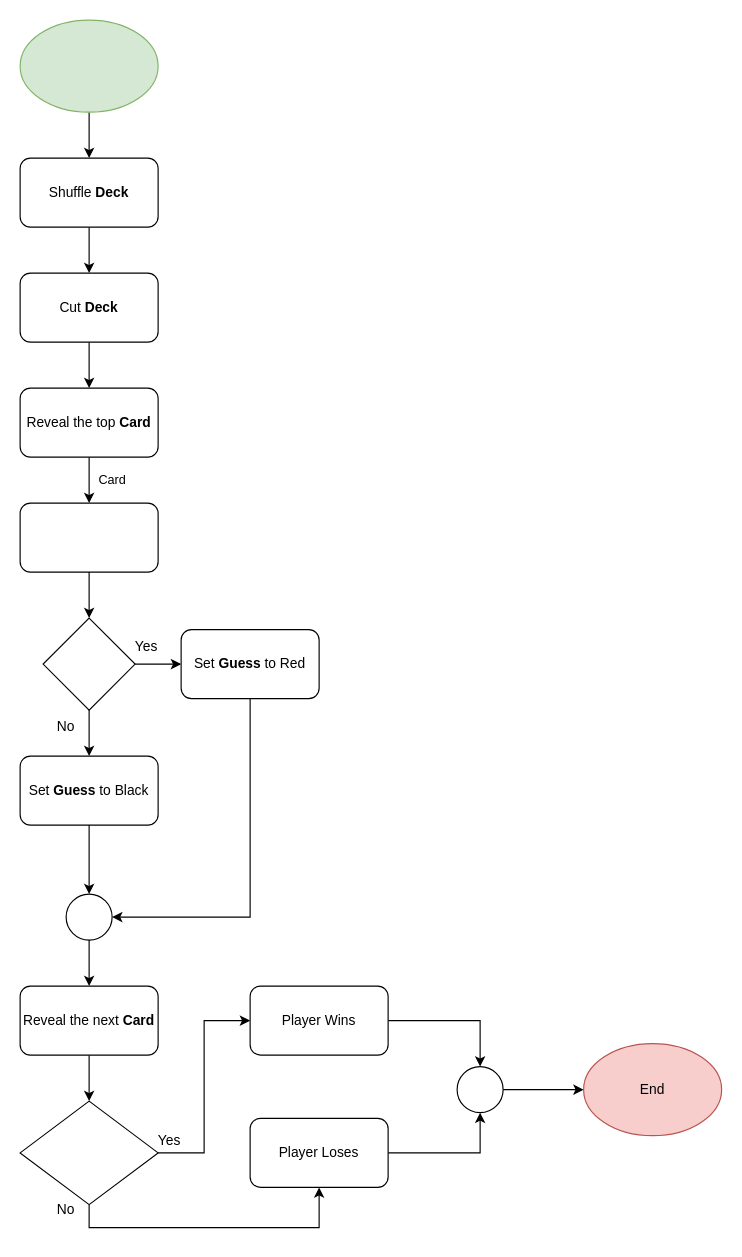
This 742x1257 diagram has some shape labels left out. Each missing label, with the centre of its shape:
"Does Guess match Boardstate?" goes at pixel 88 1152.
"Is Guess Red?" goes at pixel 88 663.
"Set Boardstate to Card: Color" goes at pixel 88 537.
"Start" goes at pixel 88 65.
